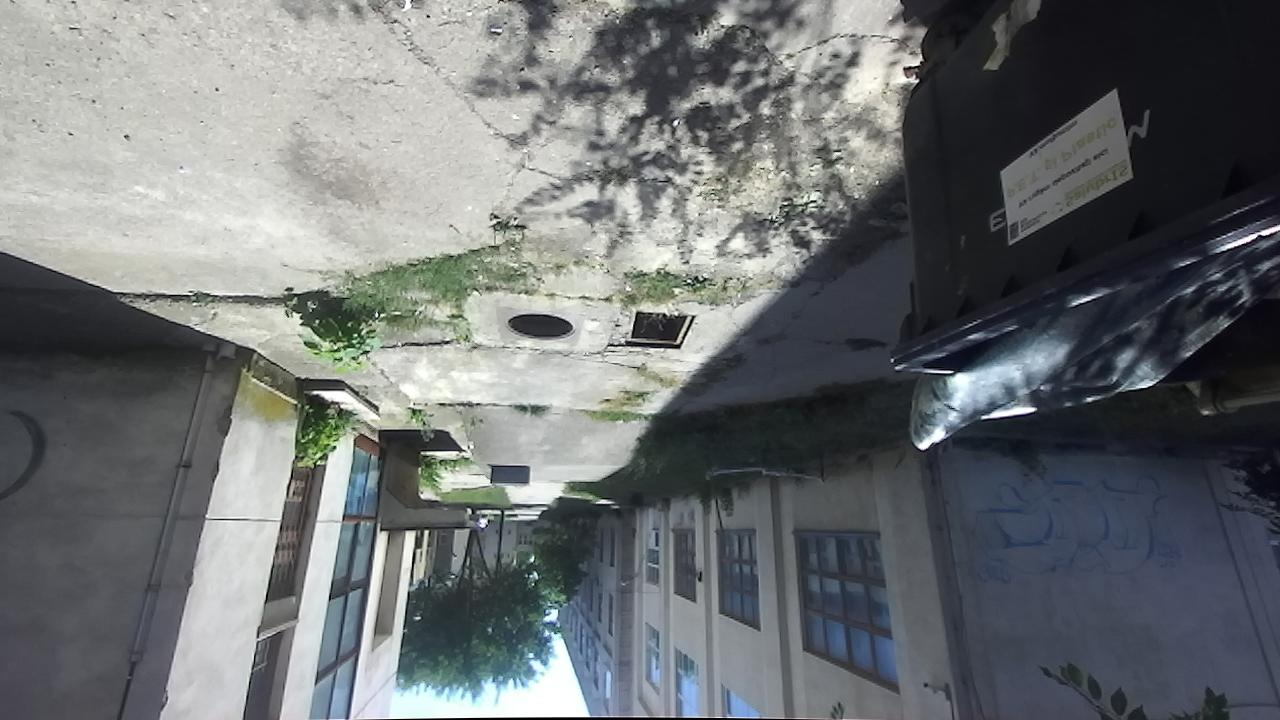drain: (610, 306, 699, 352), (502, 312, 577, 344)
